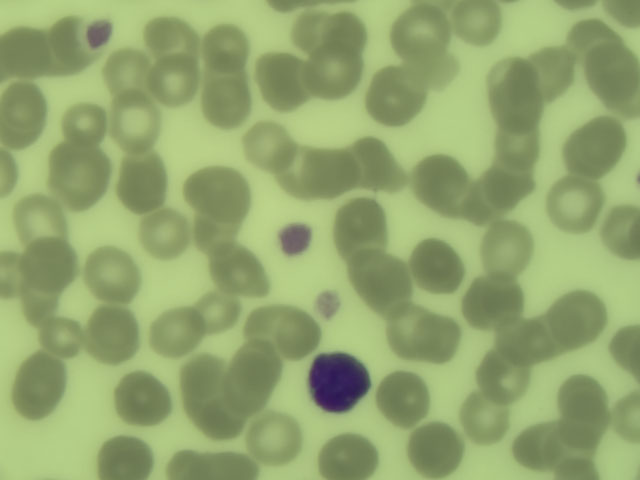Platelets: (278, 223, 314, 259), (86, 18, 116, 48), (313, 289, 341, 318)
RBC: (406, 418, 469, 480), (352, 251, 416, 305), (367, 64, 425, 123), (187, 167, 254, 218), (569, 118, 630, 172), (337, 195, 392, 253), (86, 306, 140, 365), (11, 361, 64, 419), (50, 147, 105, 202), (411, 238, 466, 292), (376, 373, 432, 425), (473, 353, 527, 406), (553, 291, 608, 343), (83, 247, 134, 303), (113, 372, 171, 421), (1, 83, 49, 141), (548, 178, 602, 229), (110, 100, 163, 151), (317, 433, 374, 480), (248, 416, 306, 462), (561, 372, 611, 424), (556, 421, 609, 470), (201, 77, 249, 125), (594, 48, 640, 98), (457, 1, 503, 48), (248, 125, 295, 169), (257, 54, 304, 98), (242, 334, 289, 378), (269, 313, 316, 357), (223, 368, 270, 412), (194, 394, 241, 438), (179, 358, 226, 402), (100, 436, 147, 480), (149, 308, 196, 352), (217, 250, 264, 294), (191, 210, 238, 254), (118, 161, 165, 205), (138, 214, 185, 258), (200, 23, 247, 67), (148, 14, 195, 58), (151, 58, 198, 102), (17, 287, 64, 331), (23, 242, 70, 286), (17, 198, 64, 242), (62, 101, 109, 145), (42, 17, 89, 61), (514, 426, 561, 470), (464, 394, 511, 438), (485, 318, 532, 362), (520, 320, 567, 364), (473, 272, 520, 316), (486, 222, 533, 266), (421, 316, 468, 360), (384, 302, 431, 346), (411, 42, 458, 86), (398, 8, 445, 52), (288, 9, 335, 53), (326, 12, 373, 56), (311, 52, 358, 96), (280, 152, 327, 196), (314, 147, 361, 191), (356, 139, 403, 183), (443, 174, 490, 218), (485, 162, 532, 206), (495, 88, 542, 132), (490, 122, 537, 166), (569, 19, 616, 63), (527, 49, 574, 93), (490, 58, 537, 102), (414, 154, 461, 198), (1, 24, 47, 68), (100, 50, 146, 92), (196, 290, 239, 332), (39, 316, 81, 357), (209, 449, 257, 480), (160, 448, 208, 479), (1, 151, 30, 201), (1, 254, 20, 298)
WBC: (308, 350, 373, 415)
